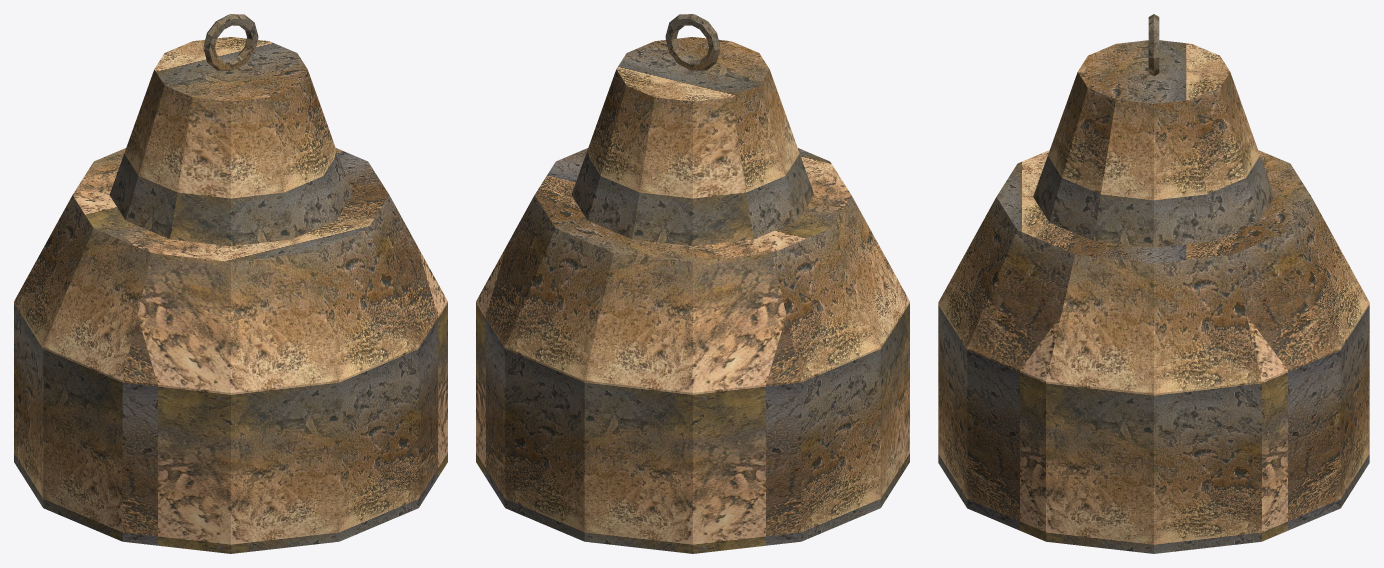
File: campana.obj
The picture shows the model from 3 angles, left to right: view 1: azimuth 30°, elevation 25°; view 2: azimuth 150°, elevation 25°; view 3: azimuth 270°, elevation 25°; orthographic projection.
Parts seen in each view (by area): view 1: Cylinder; view 2: Cylinder; view 3: Cylinder.
Boxes of the visible parts, x1=… form: Cylinder: x1=14, y1=14, x2=447, y2=553; Cylinder: x1=476, y1=14, x2=909, y2=553; Cylinder: x1=938, y1=14, x2=1369, y2=553.
Bounding box in the file's own units: 0.2004 × 0.2286 × 0.2004.
Materials: 1 (1 with a texture image).
